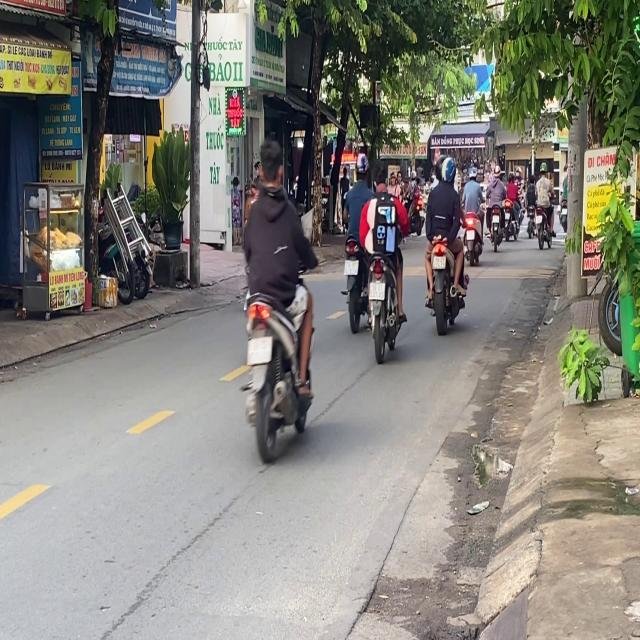helmet: (440, 155, 456, 183), (354, 152, 368, 180)
licenseplate: (235, 134, 319, 460), (367, 149, 408, 360), (421, 153, 468, 332), (340, 151, 376, 331)
motorcyclist: (256, 138, 284, 193), (373, 158, 390, 192)
nohelmet: (247, 336, 270, 362), (369, 281, 384, 299), (343, 259, 358, 275), (432, 254, 446, 268)
